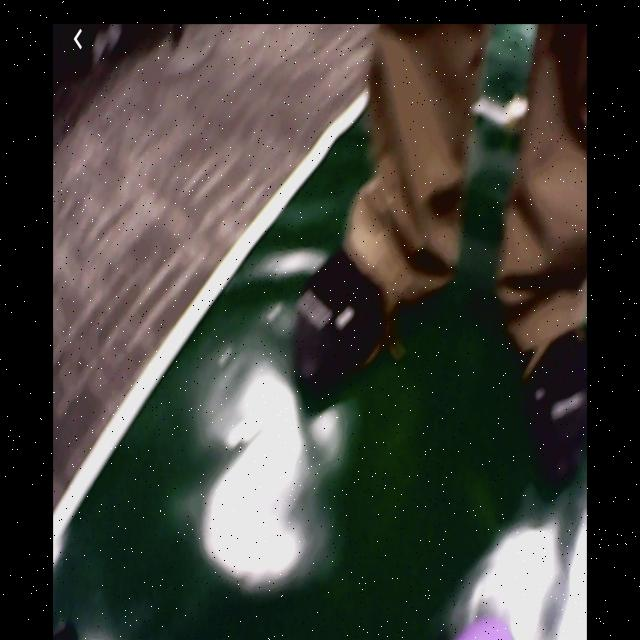ball: (455, 616, 519, 640)
